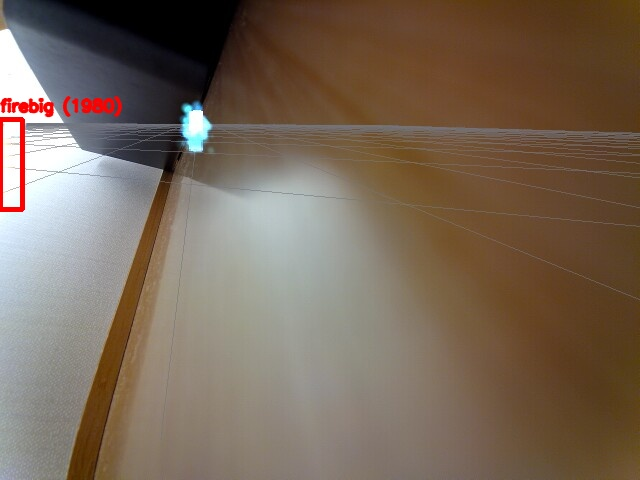firebig: (0, 119, 22, 209)
